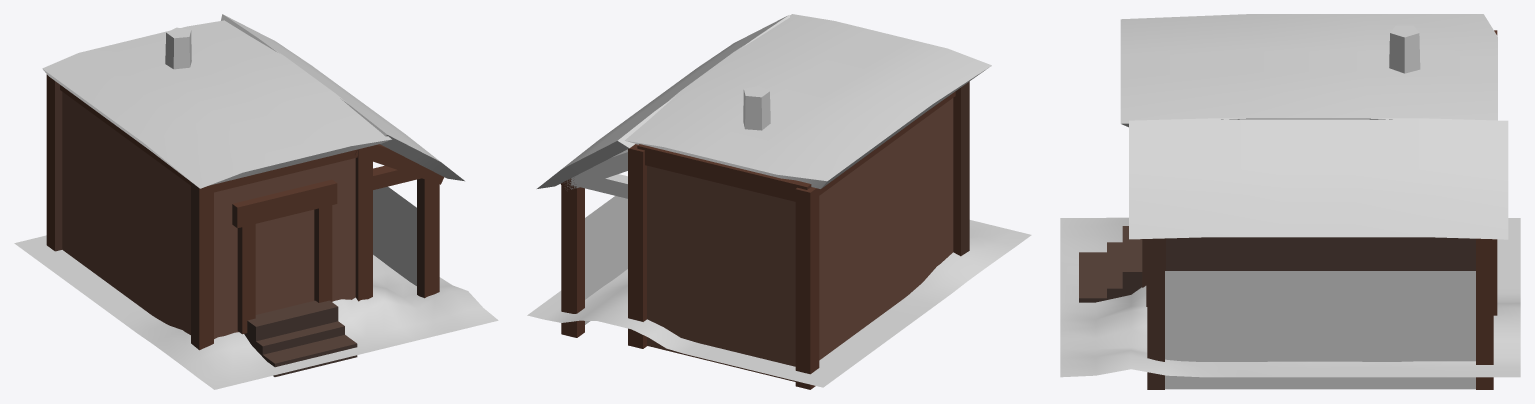
File: house_outside_test.fbx
3 views of the same model, side by side, from view 1: azimuth 30°, elevation 25°; view 2: azimuth 150°, elevation 25°; view 3: azimuth 270°, elevation 25° (orthographic). The views are drawn at different scales.
Parts seen in each view (by area): view 1: pCube1, pCube20, pPlane2, pCube3, pPlane1, pCube21, pCube4, pCube10, pCube19, pCube2, pCube14, pCube6 (+7 smaller); view 2: pCube1, pCube20, pPlane2, pCube4, pCube6, pCube21, pCube5, pPlane1, pCube9, pCube3, pCylinder1, pCube8 (+1 smaller); view 3: pCube21, pCube20, pPlane1, pPlane2, pCube1, pCube9, pCube10, pCube16, pCylinder1, pCube14, pCube15.
Part boxes in pixels (bbox=[...]): pCube1: bbox=[62, 92, 355, 338]; pCube20: bbox=[42, 20, 391, 188]; pPlane2: bbox=[14, 235, 498, 389]; pCube3: bbox=[191, 182, 213, 350]; pPlane1: bbox=[373, 186, 416, 285]; pCube21: bbox=[221, 14, 464, 181]; pCube4: bbox=[46, 74, 62, 251]; pCube10: bbox=[417, 167, 439, 298]; pCube19: bbox=[232, 179, 337, 228]; pCube2: bbox=[355, 146, 372, 301]; pCube14: bbox=[244, 300, 338, 349]; pCube6: bbox=[60, 85, 357, 192]; pCube1: bbox=[647, 98, 953, 381]; pCube20: bbox=[625, 14, 991, 188]; pPlane2: bbox=[527, 220, 1031, 387]; pCube4: bbox=[795, 187, 819, 389]; pCube6: bbox=[637, 91, 955, 201]; pCube21: bbox=[537, 15, 789, 188]; pCube5: bbox=[628, 144, 646, 348]; pPlane1: bbox=[585, 196, 627, 324]; pCube9: bbox=[561, 178, 584, 337]; pCube3: bbox=[953, 81, 969, 256]; pCylinder1: bbox=[743, 86, 770, 130]; pCube8: bbox=[571, 173, 627, 198]; pCube21: bbox=[1129, 118, 1508, 239]; pCube20: bbox=[1120, 14, 1497, 127]; pPlane1: bbox=[1165, 271, 1475, 389]; pPlane2: bbox=[1060, 217, 1520, 377]; pCube1: bbox=[1166, 237, 1475, 270]; pCube9: bbox=[1476, 238, 1493, 389]; pCube10: bbox=[1147, 238, 1164, 389]; pCube16: bbox=[1079, 252, 1106, 302]; pCylinder1: bbox=[1389, 25, 1420, 73]; pCube14: bbox=[1122, 226, 1142, 296]; pCube15: bbox=[1107, 242, 1122, 299].
Bounding box in the file's own units: 11.26 × 9.18 × 13.74.
